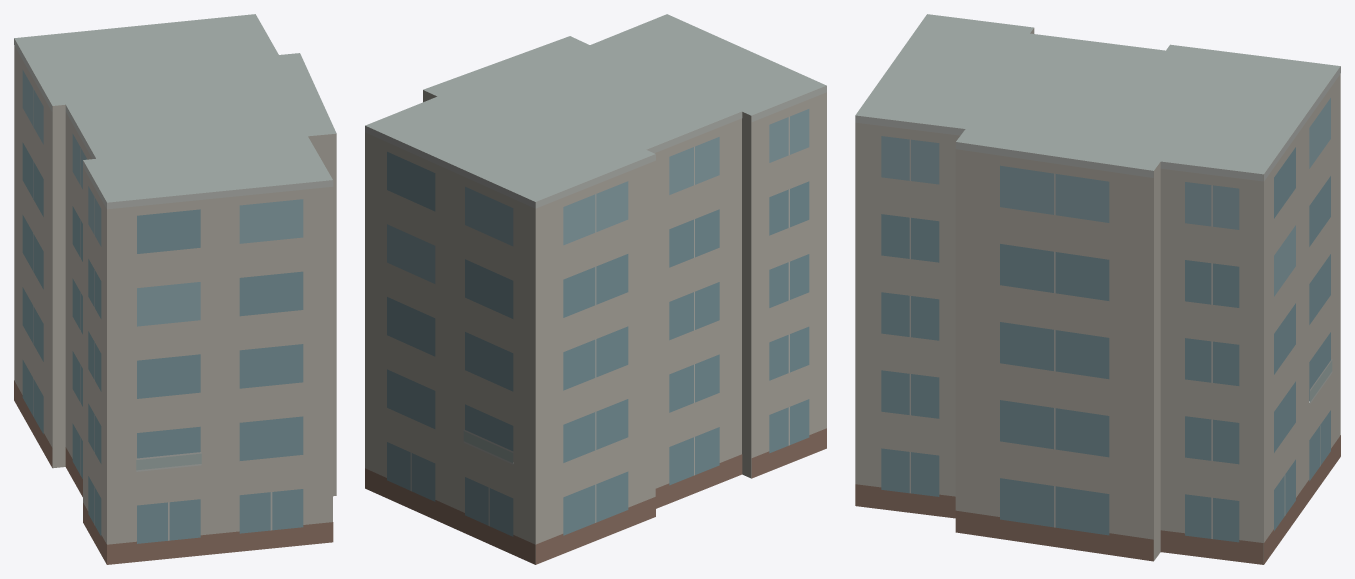
The model's file is survey-upis-33013404.glb.
3 renders of one model, left to right at view 1: azimuth 30°, elevation 25°; view 2: azimuth 150°, elevation 25°; view 3: azimuth 270°, elevation 25°, orthographic. The views are drawn at different scales.
Visible parts, largest first — view 1: survey-upis-33013404.tmp; view 2: survey-upis-33013404.tmp; view 3: survey-upis-33013404.tmp.
Part boxes in pixels (box(x1,y1,x2,y2)): survey-upis-33013404.tmp: box(14, 14, 336, 564); survey-upis-33013404.tmp: box(365, 14, 826, 564); survey-upis-33013404.tmp: box(855, 14, 1340, 564).
Bounding box in the file's own units: 11.63 × 13.2 × 14.88.
